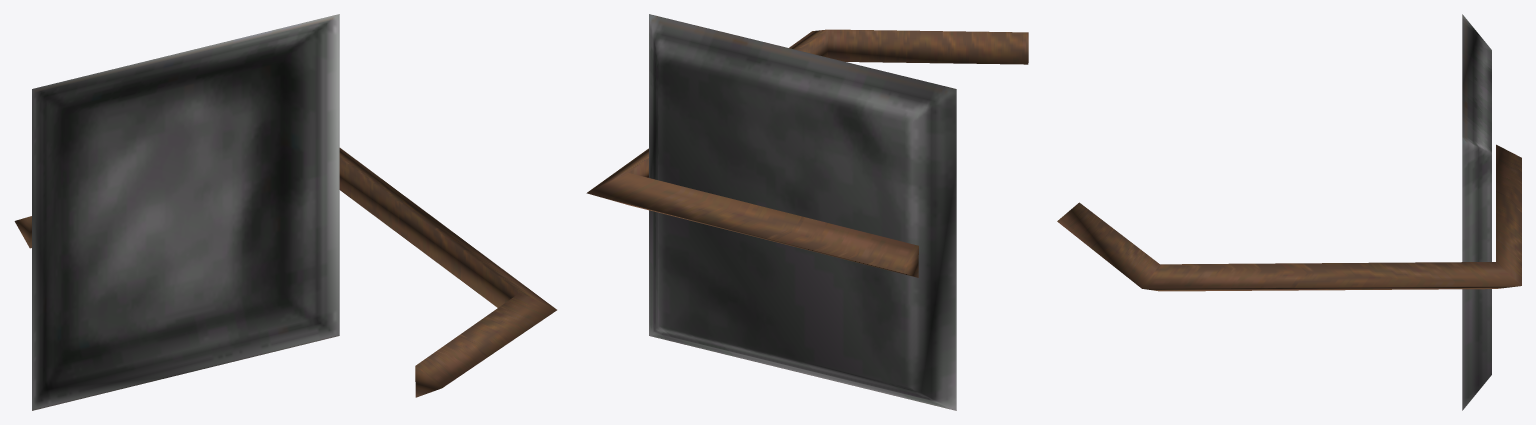
Rendered from INST_SWORDLIGHT_CONV12.fbx.
3 renders of one model, left to right at view 1: azimuth 30°, elevation 25°; view 2: azimuth 150°, elevation 25°; view 3: azimuth 270°, elevation 25°, orthographic. The views are drawn at different scales.
Visible parts, largest first — view 1: INST_SWORDLIGHT_CONV12; view 2: INST_SWORDLIGHT_CONV12; view 3: INST_SWORDLIGHT_CONV12.
Boxes of the visible parts, left/top/right/bottom form: INST_SWORDLIGHT_CONV12: left=14, top=14, right=556, bottom=410; INST_SWORDLIGHT_CONV12: left=586, top=14, right=1028, bottom=410; INST_SWORDLIGHT_CONV12: left=1057, top=14, right=1521, bottom=410.
Bounding box in the file's own units: 16334 × 15001 × 23348.
Materials: 1 (1 with a texture image).
